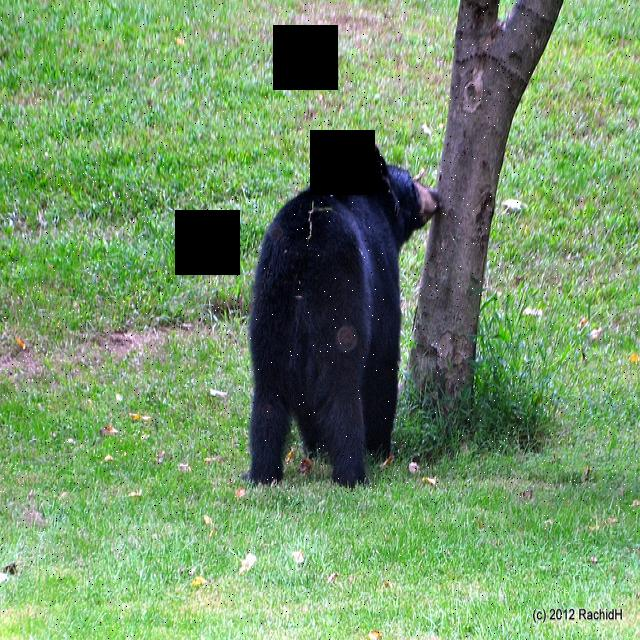Bear: (232, 132, 440, 492)
